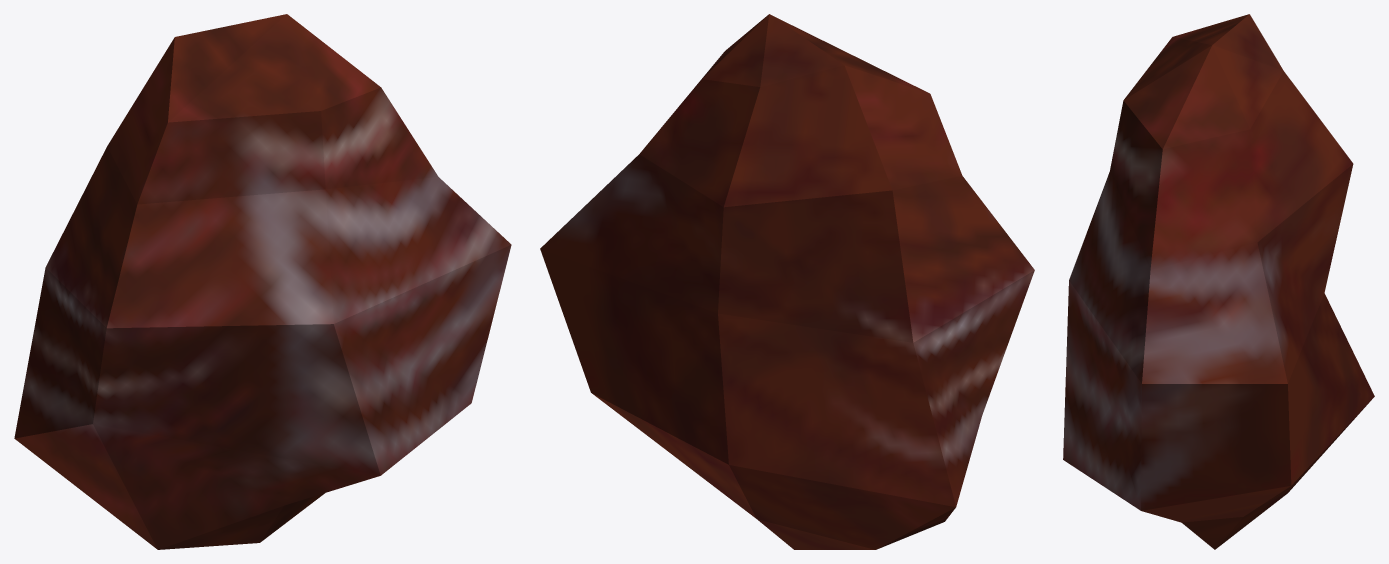
Rendered from bloody pieces2.fbx.
3 views of the same model, side by side, from view 1: azimuth 30°, elevation 25°; view 2: azimuth 150°, elevation 25°; view 3: azimuth 270°, elevation 25° (orthographic). The views are drawn at different scales.
Parts seen in each view (by area): view 1: Sphere.002; view 2: Sphere.002; view 3: Sphere.002.
Part boxes in pixels (x1=…): Sphere.002: x1=14, y1=14, x2=511, y2=549; Sphere.002: x1=540, y1=14, x2=1034, y2=549; Sphere.002: x1=1063, y1=14, x2=1374, y2=549.
Bounding box in the file's own units: 327 × 391 × 214.
1 material, 1 textured.
